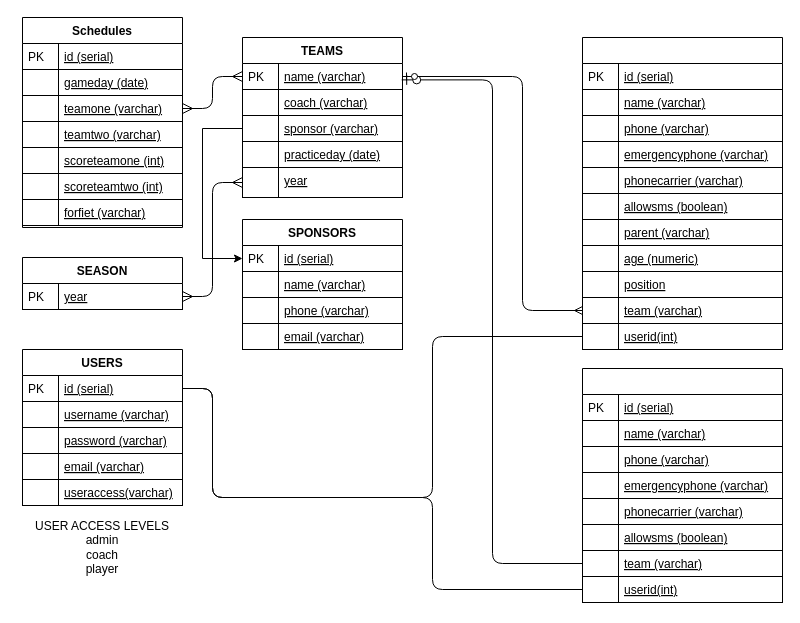
The diagram is 800 pixels wide and 623 high, and some of its shapes have lost their labels. The shapes that lost their labels are listed below. From the top down, each one's box as (x1, y1, x2, y2) in pixels, then its label:
(582, 36, 782, 350): PLAYERS
(582, 368, 782, 602): COACHES
